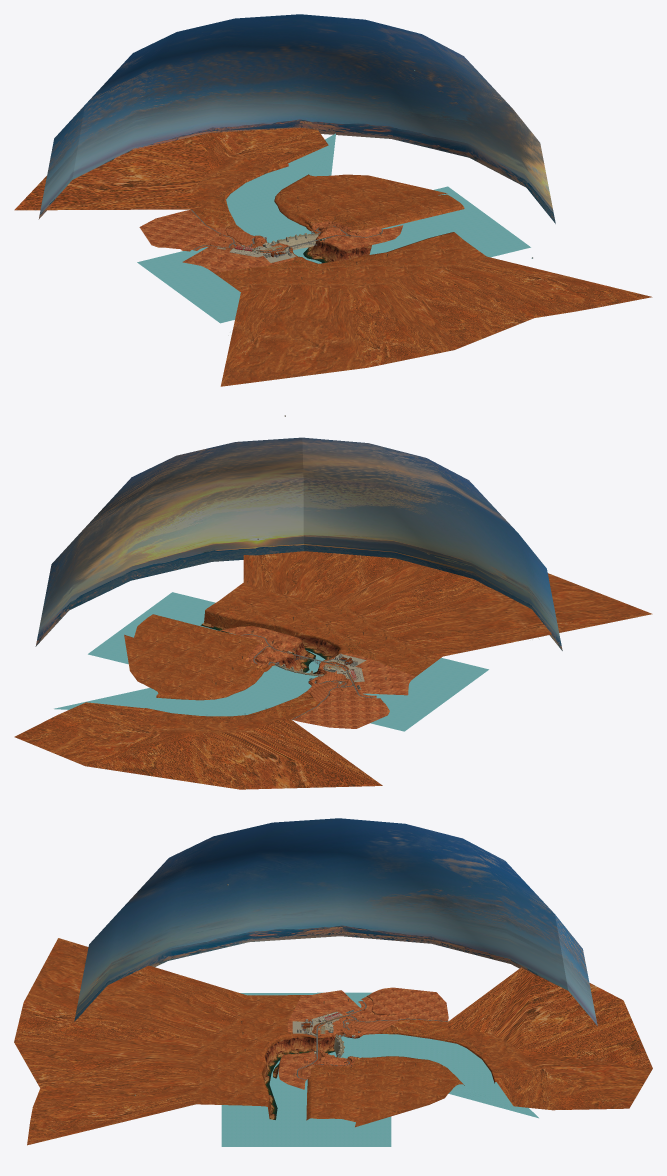
File: glen-canyon-dam.glb
3 renders of one model, top to bottom at view 1: azimuth 30°, elevation 25°; view 2: azimuth 150°, elevation 25°; view 3: azimuth 270°, elevation 25°, orthographic.
Parts seen in each view (by area): view 1: ENV, Sky_Last_skybox, water2, ENV.002, water1, ENV.001, Track_2; view 2: ENV, Sky_Last_skybox, ENV.002, water2, water1, ENV.001; view 3: ENV, Sky_Last_skybox, water2, ENV.002, water1, ENV.001.
Part boxes in pixels (x1,y1,x2,y2): ENV: (14, 128, 652, 386); Sky_Last_skybox: (38, 14, 555, 223); water2: (137, 186, 530, 323); ENV.002: (139, 209, 403, 272); water1: (226, 133, 335, 242); ENV.001: (262, 235, 371, 263); Track_2: (217, 231, 319, 250); ENV: (14, 551, 652, 789); Sky_Last_skybox: (35, 437, 562, 650); ENV.002: (220, 626, 415, 728); water2: (88, 592, 488, 731); water1: (54, 665, 317, 716); ENV.001: (200, 622, 338, 681); ENV: (14, 938, 652, 1145); Sky_Last_skybox: (74, 818, 597, 1025); water2: (221, 992, 391, 1146); ENV.002: (278, 987, 448, 1089); water1: (339, 1034, 538, 1118); ENV.001: (264, 1033, 359, 1119).
Size of the model in its own units: 5022 by 2244 by 6013.
20 materials, 20 textured.
